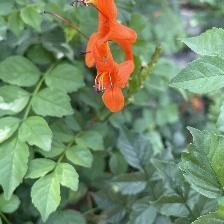honeysuckle: (88, 38, 138, 116)
